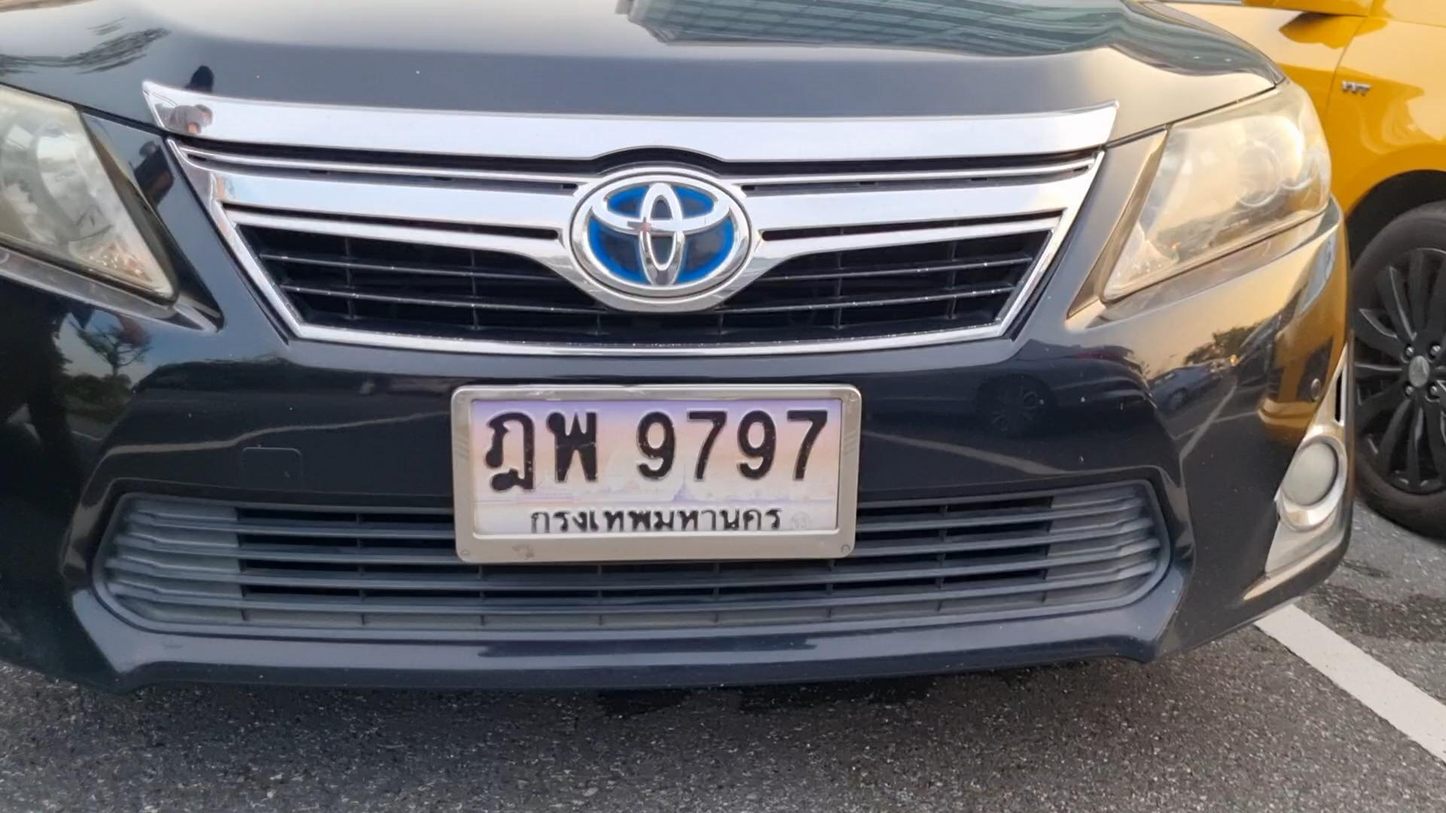license-plate: (444, 375, 870, 558)
